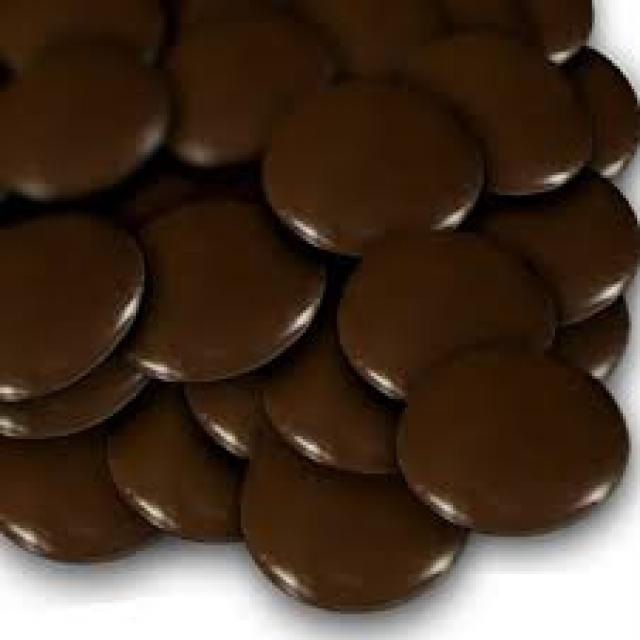Chocolate: (0, 0, 640, 620)
